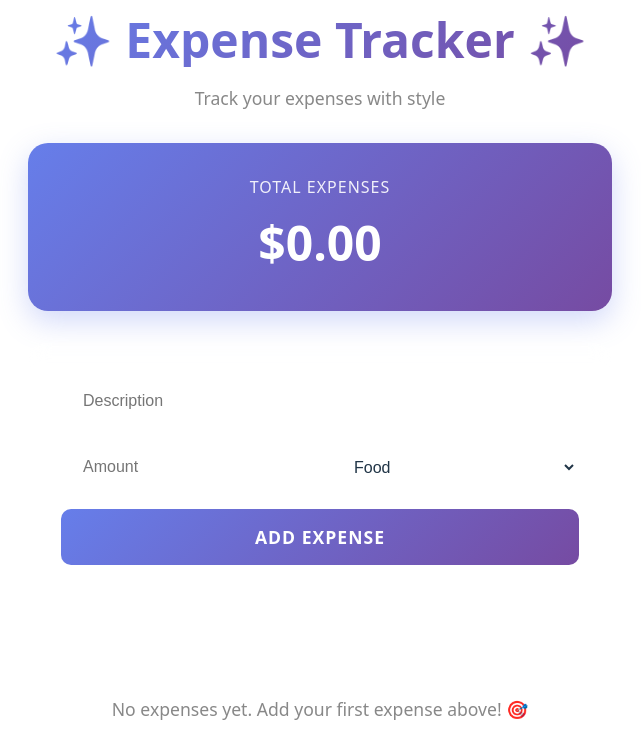
Expense Generator App › deletes an expense when delete button is clicked
In the field named "expense description": (320, 401) [61,376,579,426], type "Taxi"
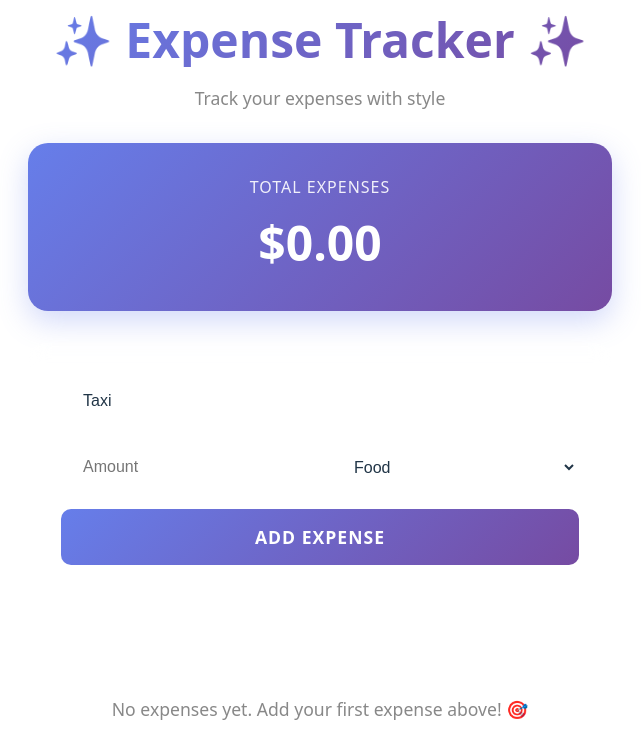
In the number field named "expense amount": (186, 467) [61,442,312,492], type "12.00"
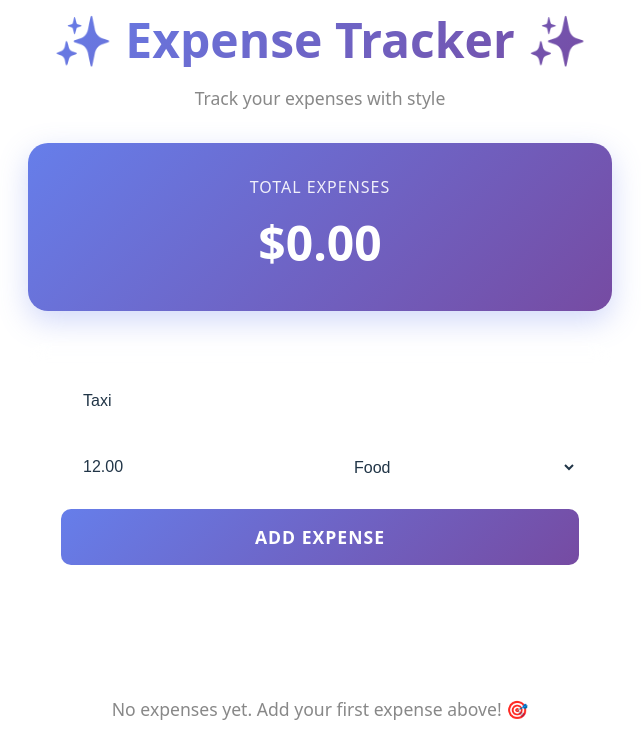
Click the button "Add Expense": (320, 537) [61,509,579,565]
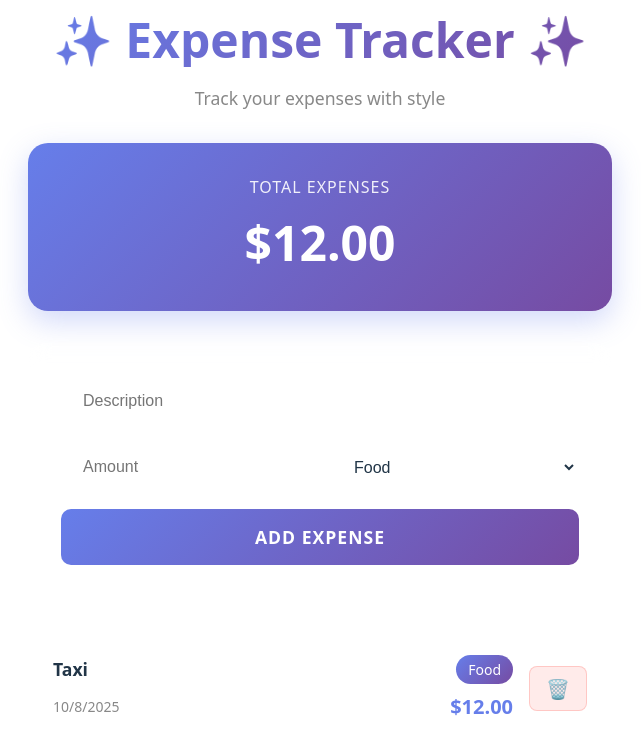
Click the button named "Delete Taxi": (558, 688) [529,666,587,711]
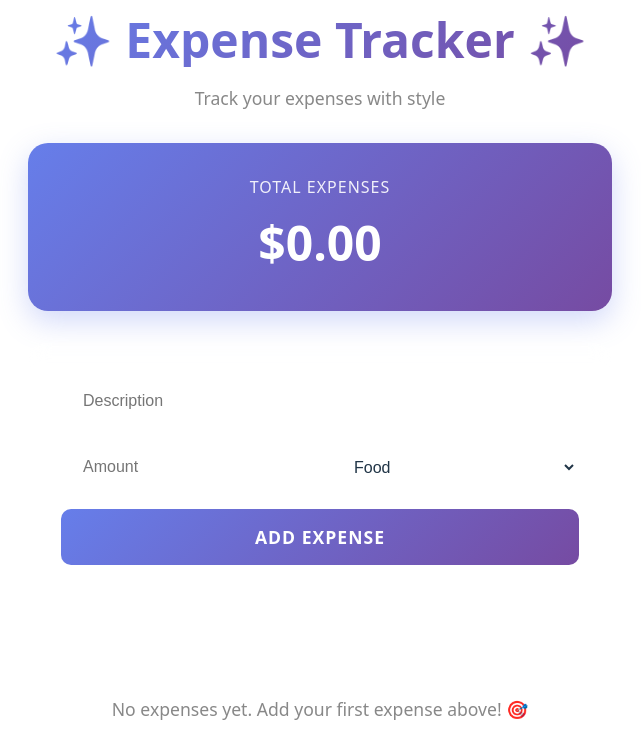
Now the text "Taxi" is gone
Now the text "No expenses yet. Add your first expense above! 🎯" is shown, box [76,696,564,722]
